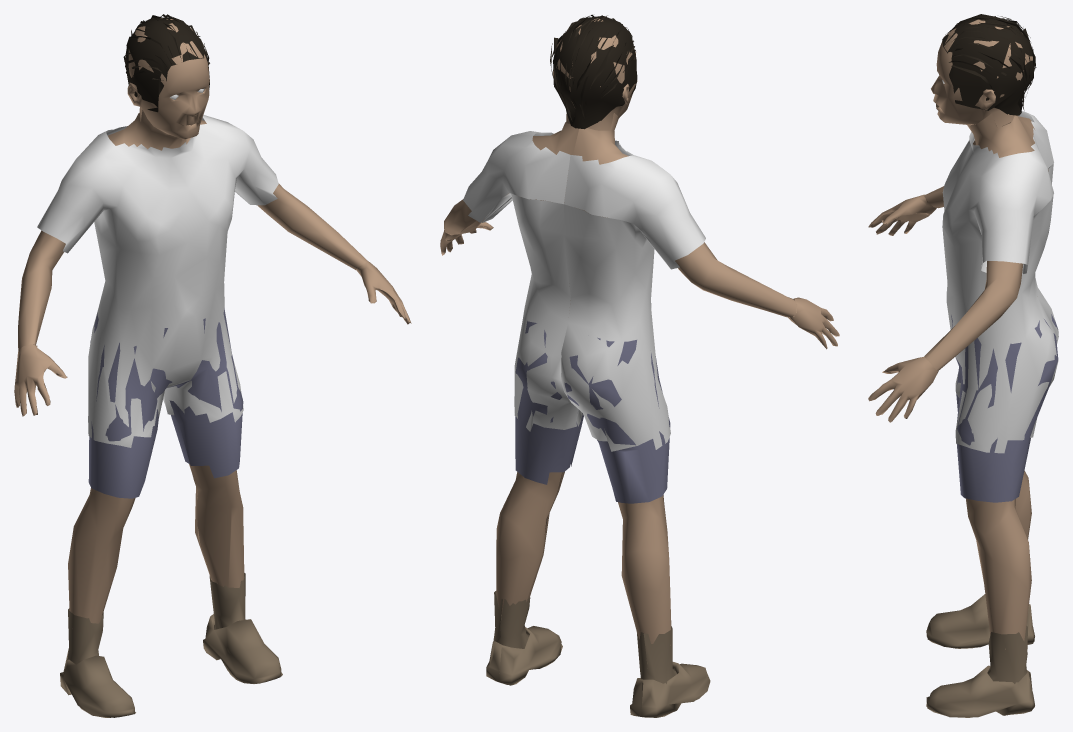
Rendered from child_02.glb.
3 views of the same model, side by side, from view 1: azimuth 30°, elevation 25°; view 2: azimuth 150°, elevation 25°; view 3: azimuth 270°, elevation 25° (orthographic).
Visible parts, largest first — view 1: crowd; view 2: crowd; view 3: crowd.
Boxes of the visible parts, x1,y1,x2,y2 form: crowd: [14, 14, 411, 717]; crowd: [440, 14, 839, 717]; crowd: [868, 14, 1058, 717].
Bounding box in the file's own units: 0.8501 × 1.39 × 0.3654.
